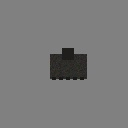armoured_vehicle: (50, 54, 87, 79)
